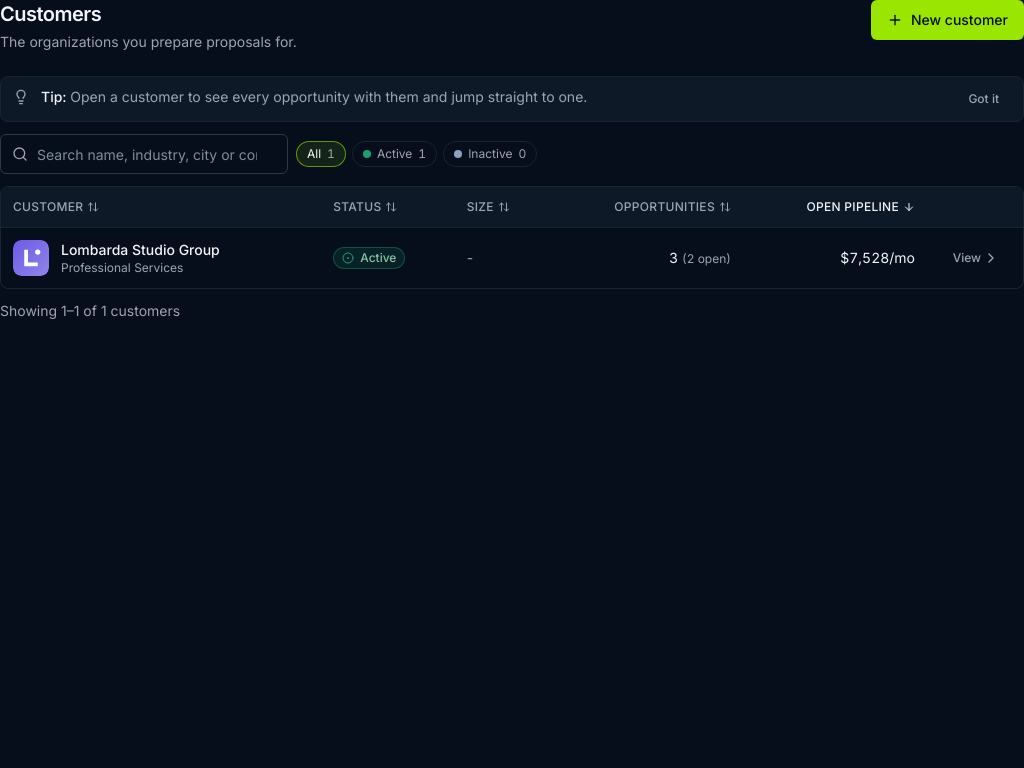
CustomersPage › opens a customer modal with their opportunities
The width and height of the screenshot is (1024, 768).
Click the button "View" at (976, 258), box [941,242,1011,274]
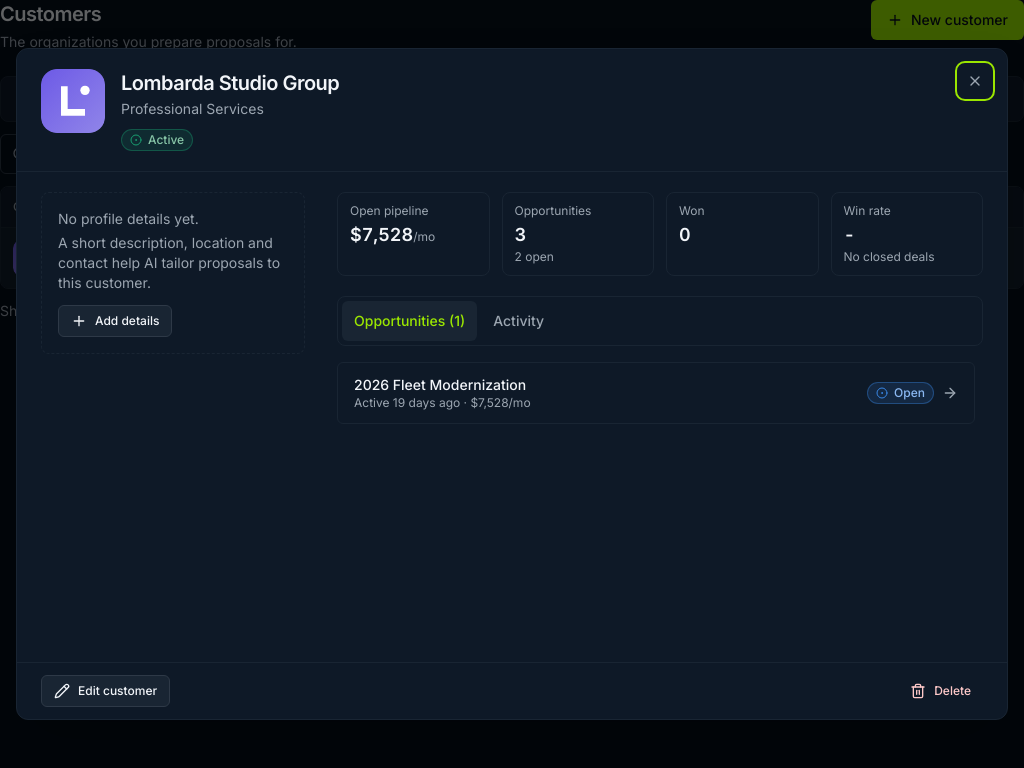
Now the text "$7,528" is shown, box [350,224,413,245]
Now the button "2026 Fleet Modernization" is shown, box [337,362,975,424]
